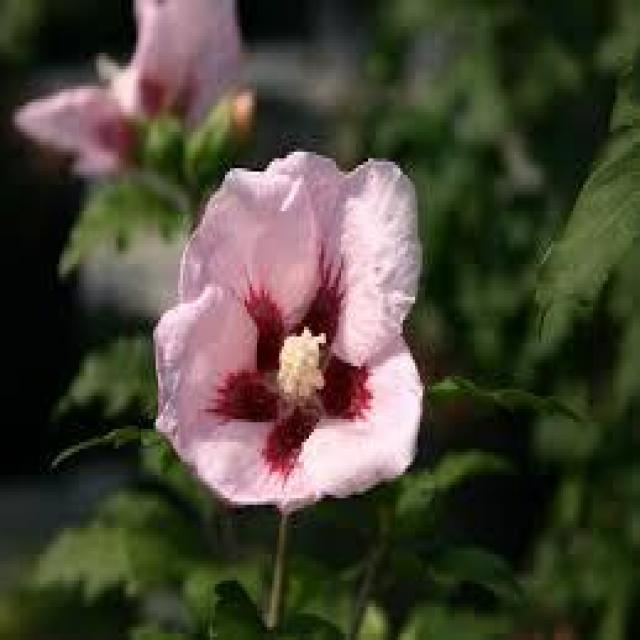organic waste: (160, 138, 426, 528)
